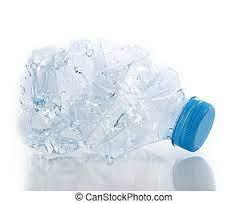plastic: (19, 39, 215, 162)
